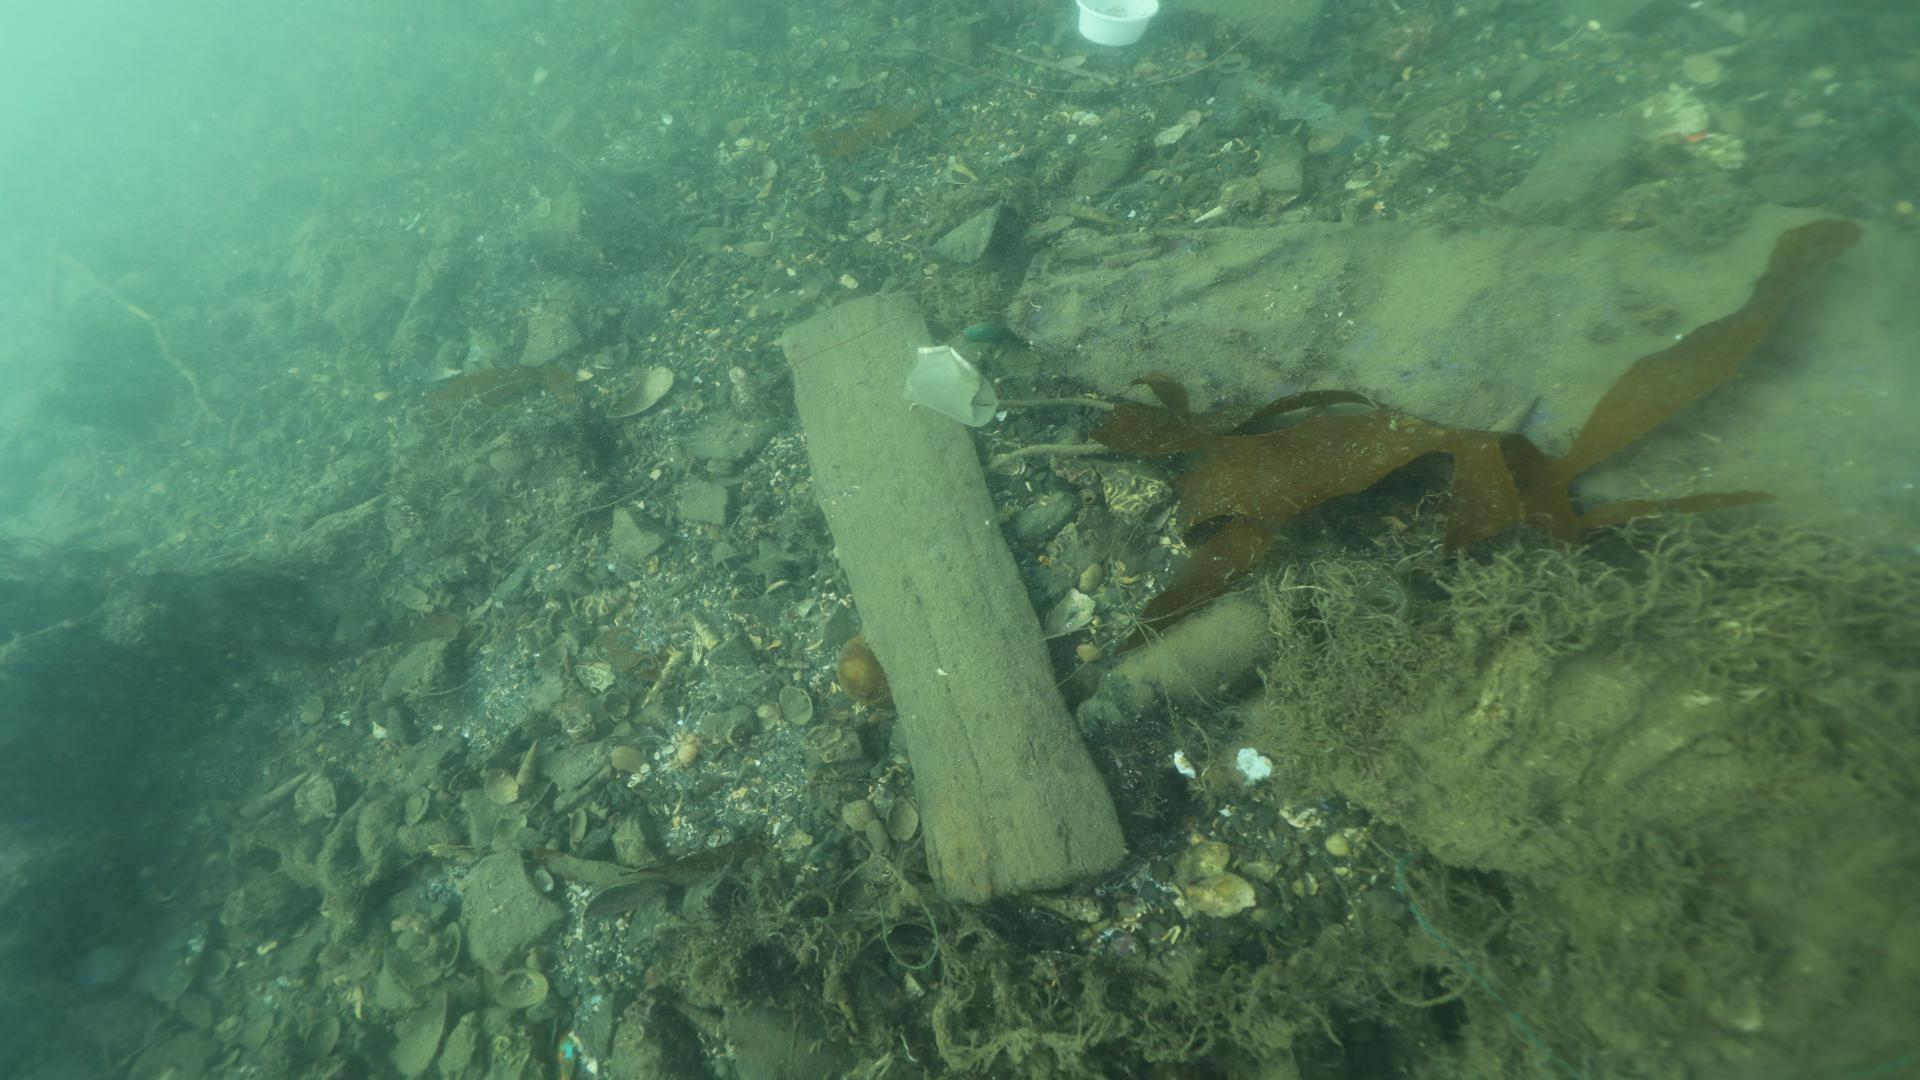wood: (779, 284, 1131, 911)
